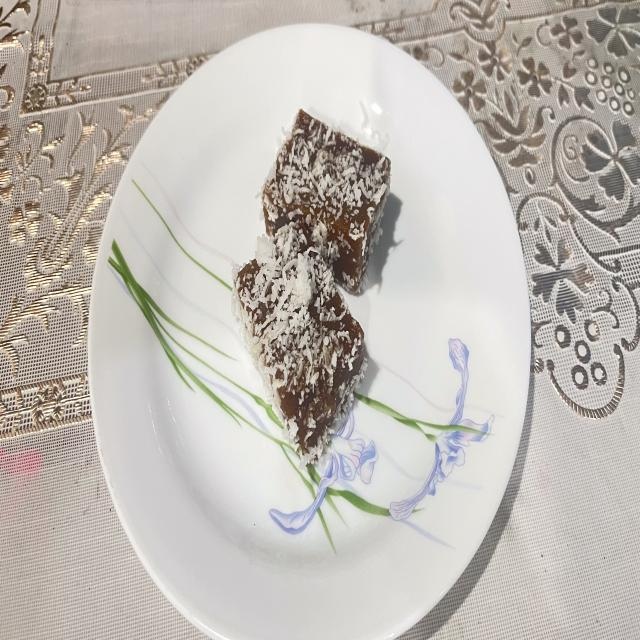kaswi: (232, 222, 366, 464), (262, 109, 390, 291)
